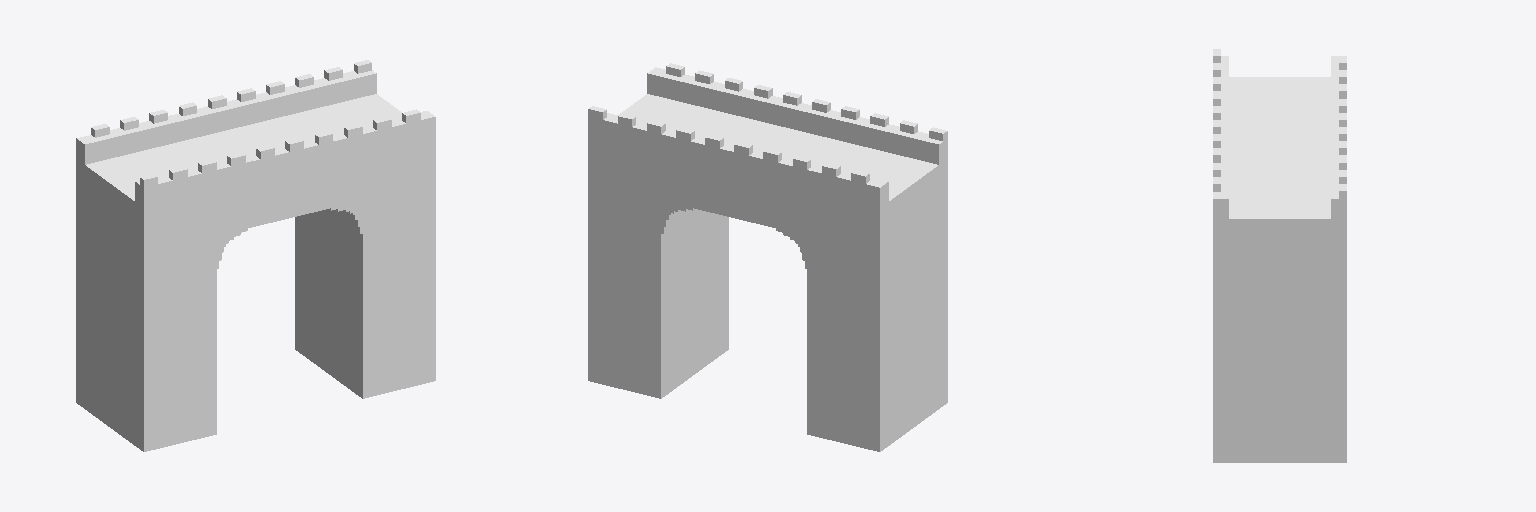
Rendered from TVS_VoxelKnights_Bridge.obj.
3 renders of one model, left to right at view 1: azimuth 30°, elevation 25°; view 2: azimuth 150°, elevation 25°; view 3: azimuth 270°, elevation 25°, orthographic.
Visible parts, largest first — view 1: ObjObject.005; view 2: ObjObject.005; view 3: ObjObject.005.
Boxes of the visible parts, <box> form: ObjObject.005: <box>76,60,435,451</box>; ObjObject.005: <box>588,63,947,451</box>; ObjObject.005: <box>1213,49,1346,462</box>.
Bounding box in the file's own units: 12 × 10.7 × 4.8.